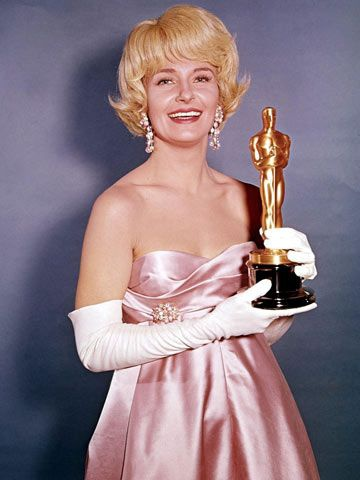hand: (260, 230, 310, 276)
